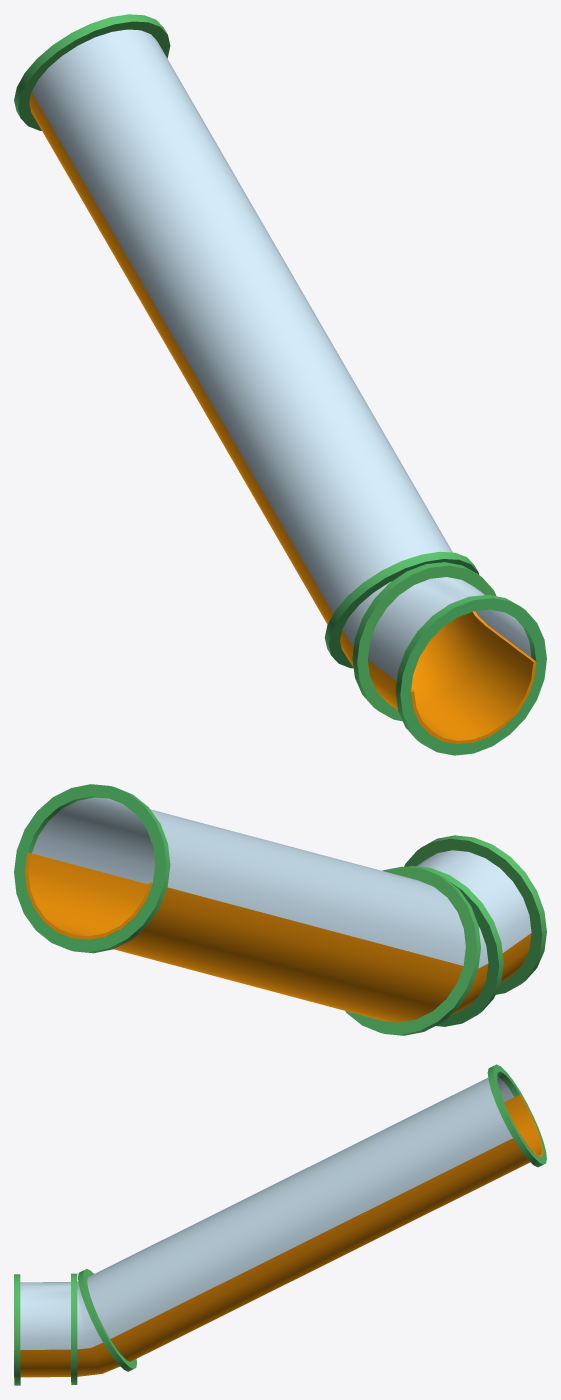
File: Slide4_Start.fbx
3 renders of one model, top to bottom at view 1: azimuth 30°, elevation 25°; view 2: azimuth 150°, elevation 25°; view 3: azimuth 270°, elevation 25°, orthographic. The views are drawn at different scales.
Visible parts, largest first — view 1: Slide4_Start; view 2: Slide4_Start; view 3: Slide4_Start.
Part boxes in pixels (x1,y1,x2,y2): Slide4_Start: (14,14,546,755); Slide4_Start: (14,784,546,1035); Slide4_Start: (14,1064,546,1385).
Size of the model in its own units: 2.34 by 7.17 by 11.16.
